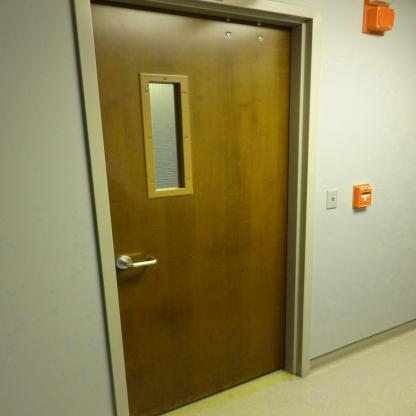door: (102, 12, 296, 415)
lever: (121, 250, 160, 276)
